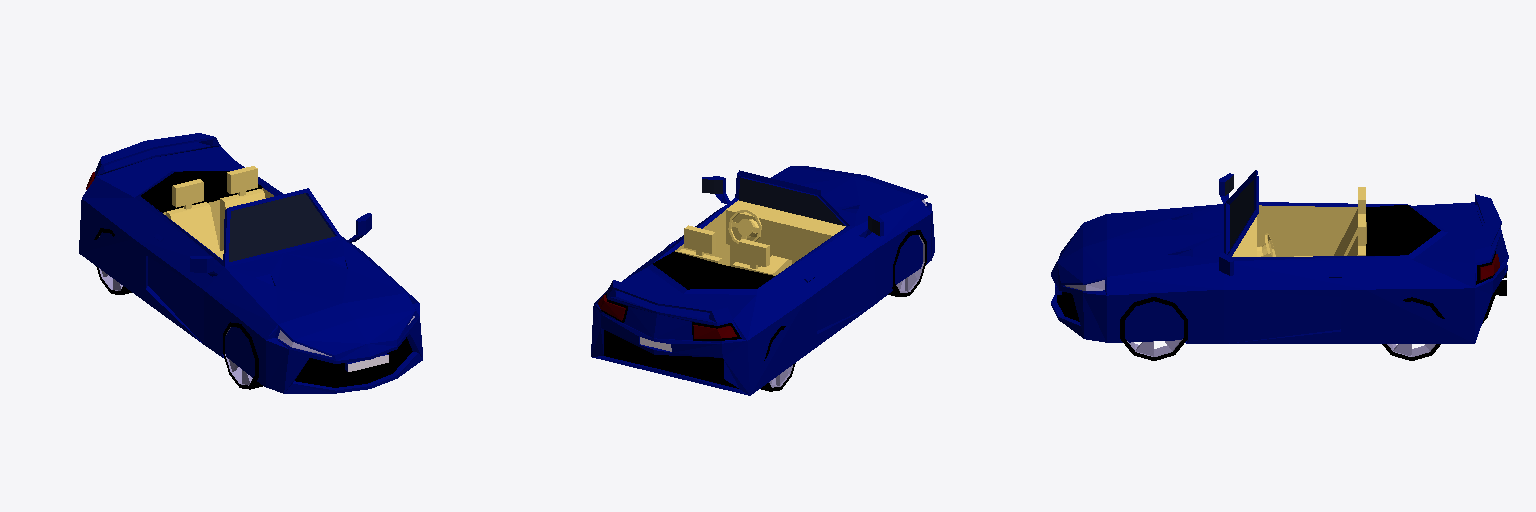
The model's file is roadster.obj.
3 views of the same model, side by side, from view 1: azimuth 30°, elevation 25°; view 2: azimuth 150°, elevation 25°; view 3: azimuth 270°, elevation 25° (orthographic).
Parts seen in each view (by area): view 1: Roadster, Roadster_wheel_front_right; view 2: Roadster, Roadster_wheel_front_right; view 3: Roadster, Roadster_wheel_front_left, Roadster_wheel_rear_left.
Part boxes in pixels (x1,y1,x2,y2): Roadster: (79,133,422,393); Roadster_wheel_front_right: (223,322,262,389); Roadster: (591,166,934,395); Roadster_wheel_front_right: (888,230,926,296); Roadster: (1051,170,1508,343); Roadster_wheel_front_left: (1120,297,1187,360); Roadster_wheel_rear_left: (1382,297,1444,360).
Size of the model in its own units: 2.63 by 1.84 by 5.73.